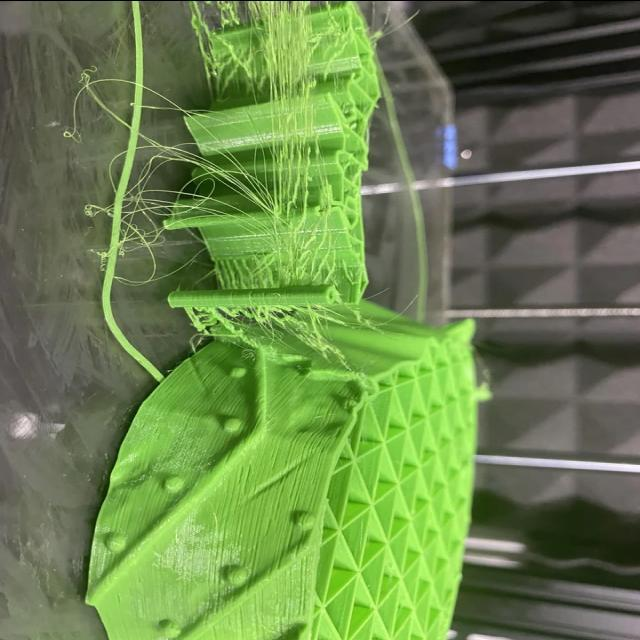Stringing: (274, 42, 303, 158), (296, 322, 327, 349)
